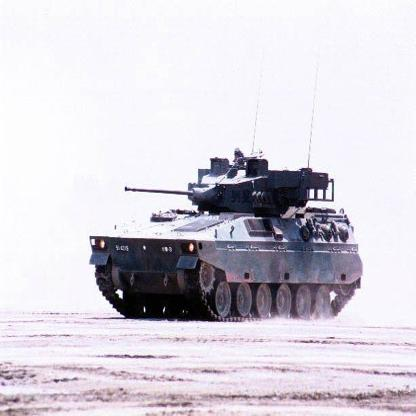Tank: (86, 147, 365, 326)
